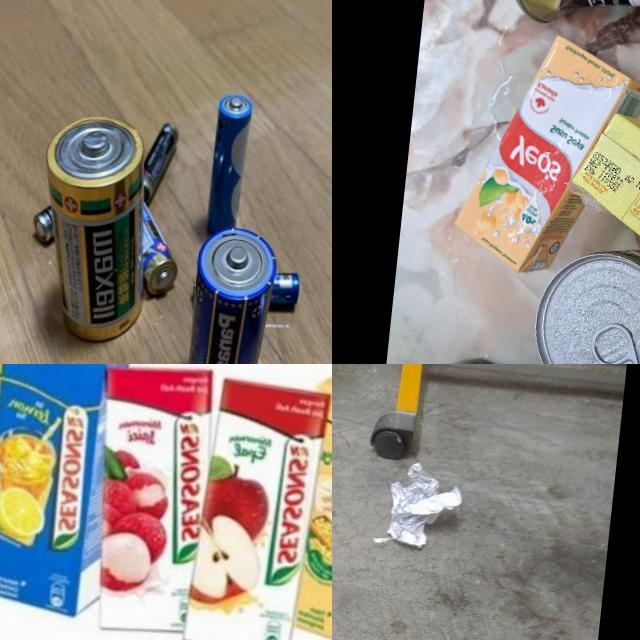aba de lata: (587, 319, 640, 364)
bateria: (24, 104, 162, 348), (178, 223, 280, 364), (108, 186, 186, 299), (200, 88, 256, 238), (124, 116, 184, 210), (184, 267, 302, 311), (27, 196, 67, 250)
caixinha: (447, 23, 640, 287), (184, 372, 332, 640), (87, 364, 214, 640), (0, 364, 130, 623), (564, 108, 640, 266), (291, 365, 332, 640), (0, 364, 51, 575)
lata: (528, 233, 640, 364)
papel: (368, 454, 469, 558)
